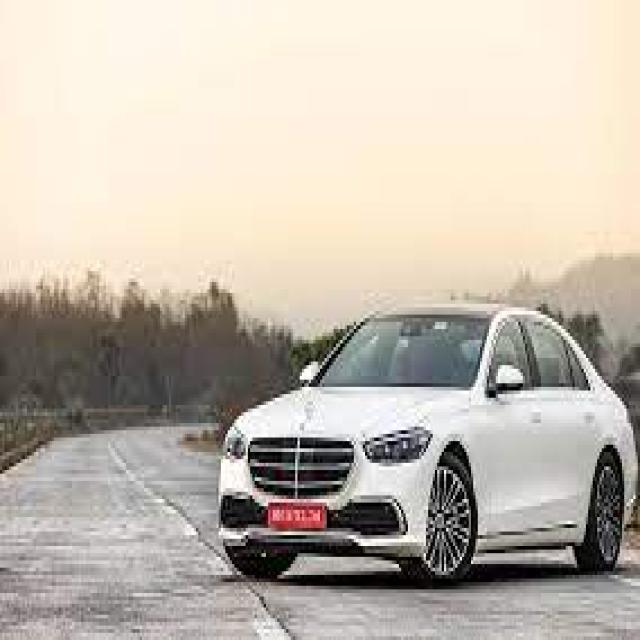Car: (213, 289, 635, 605)
